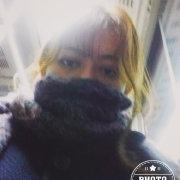OK: (45, 41, 134, 130)
